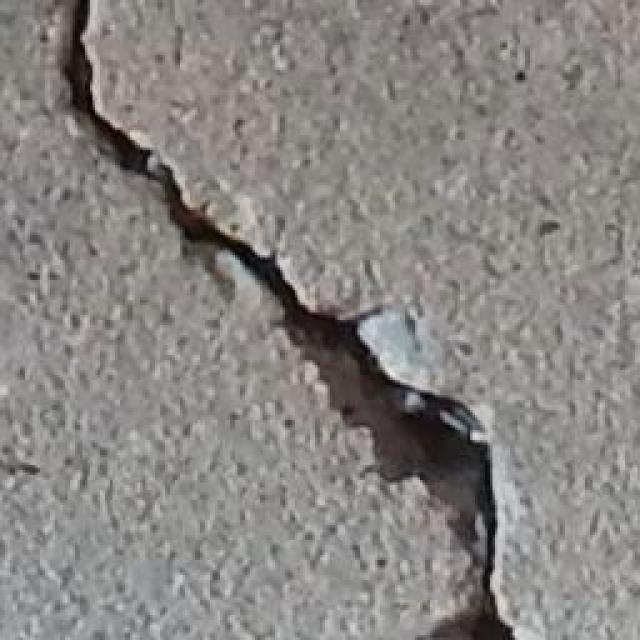concrete-crack: (62, 0, 523, 639)
